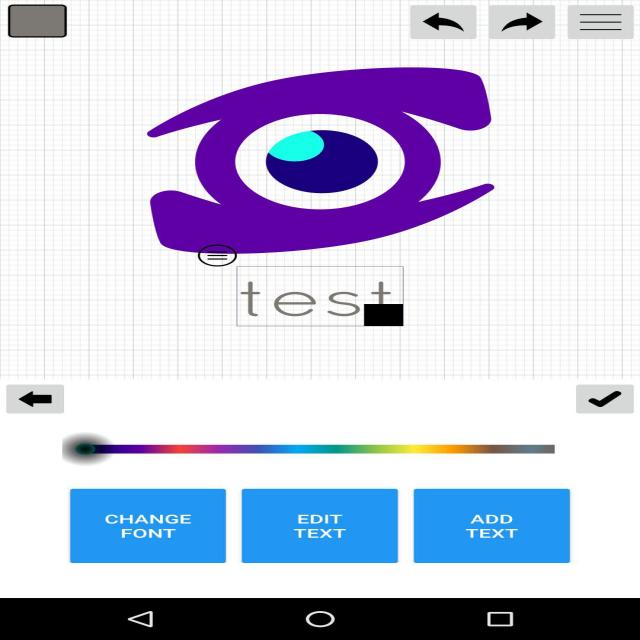button: (69, 430, 500, 475), (158, 262, 406, 316), (531, 379, 640, 464), (242, 482, 356, 558), (70, 494, 224, 542), (412, 495, 520, 558), (0, 383, 232, 412), (0, 6, 144, 44), (361, 5, 450, 40), (563, 8, 636, 42), (477, 9, 549, 38)
icon: (210, 91, 461, 188), (262, 272, 463, 344), (426, 499, 586, 558), (72, 512, 216, 577), (244, 491, 347, 548), (0, 380, 87, 414), (380, 3, 458, 40), (582, 381, 640, 425), (0, 17, 108, 38), (574, 8, 628, 40), (486, 11, 542, 37), (191, 254, 239, 271)
image: (185, 78, 558, 232)
text: (450, 504, 578, 563), (264, 504, 379, 562), (274, 283, 406, 323), (100, 511, 203, 555)
